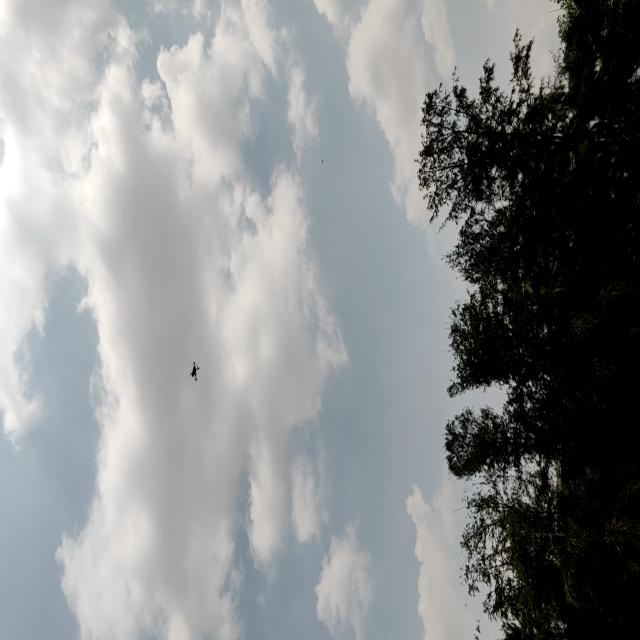drone: (183, 354, 206, 392)
